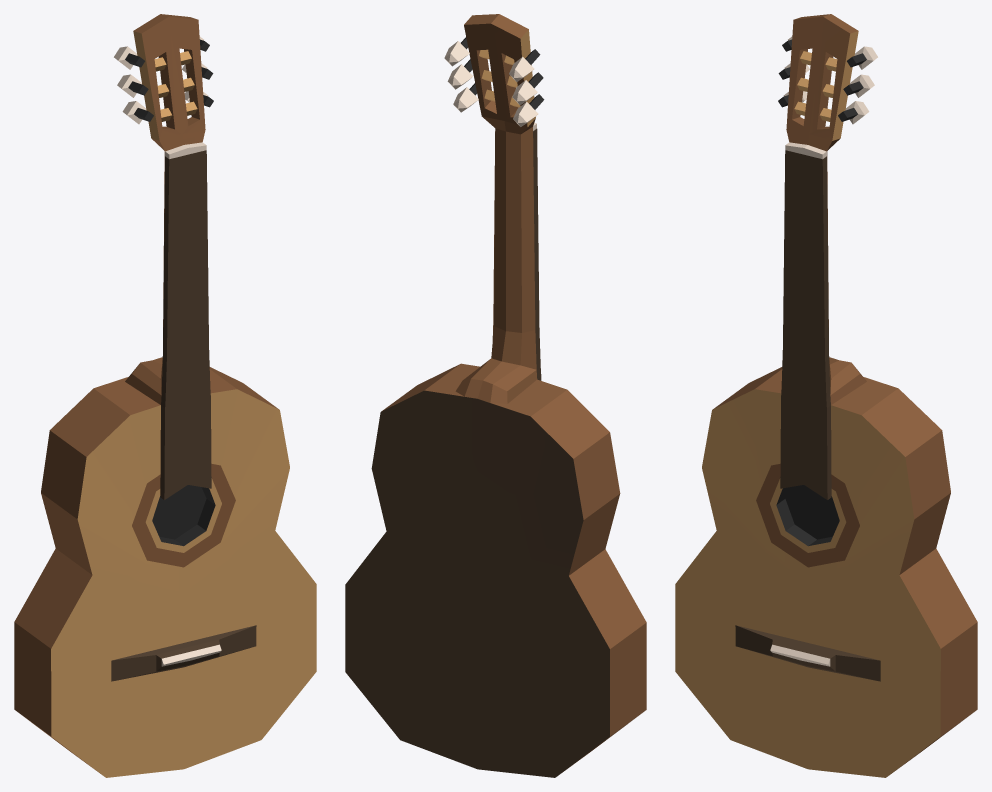
The model's file is music_guitar-acoustic.fbx.
The picture shows the model from 3 angles, left to right: view 1: azimuth 30°, elevation 25°; view 2: azimuth 150°, elevation 25°; view 3: azimuth 330°, elevation 25°; orthographic projection.
Parts seen in each view (by area): view 1: music_guitar_acoustic; view 2: music_guitar_acoustic; view 3: music_guitar_acoustic.
Boxes of the visible parts, left/top/right/bottom form: music_guitar_acoustic: left=14, top=14, right=316, bottom=777; music_guitar_acoustic: left=345, top=14, right=646, bottom=777; music_guitar_acoustic: left=675, top=14, right=977, bottom=777.
Size of the model in its own units: 74.93 by 200 by 22.61.
